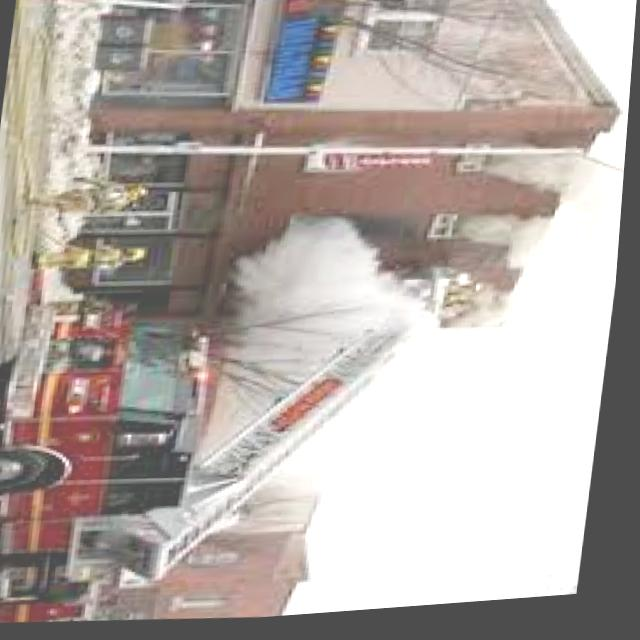no_helmet: (213, 177, 621, 625), (458, 131, 630, 282)
